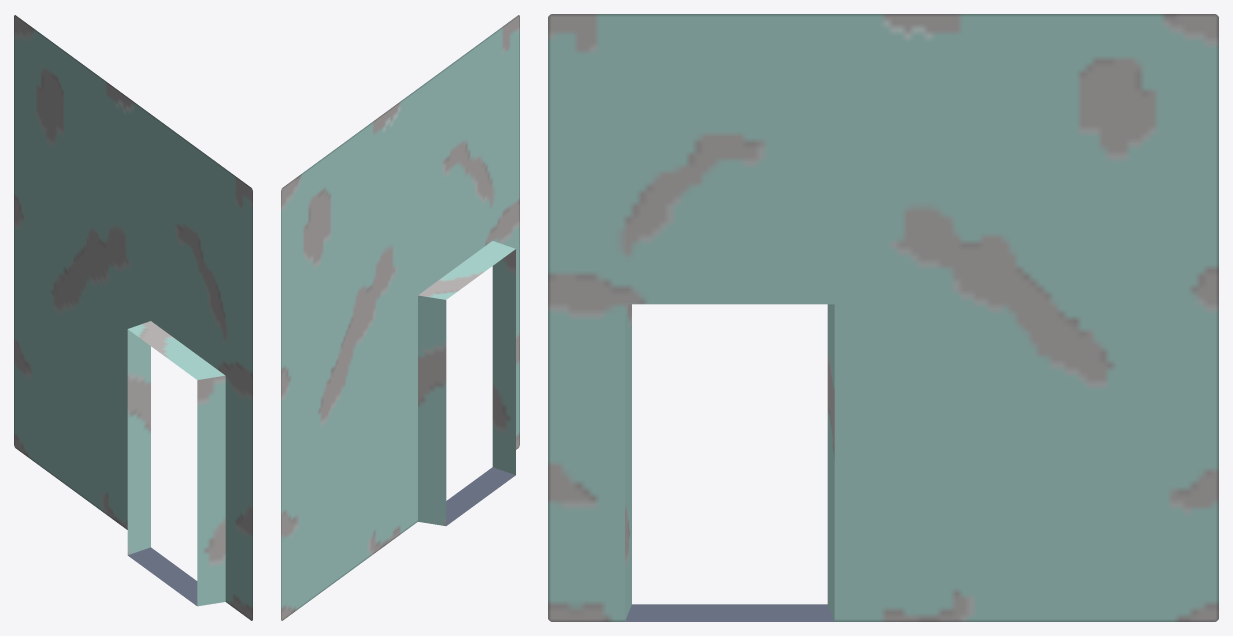
File: ParedPuertaAzul4.fbx
3 views of the same model, side by side, from view 1: azimuth 30°, elevation 25°; view 2: azimuth 150°, elevation 25°; view 3: azimuth 270°, elevation 25° (orthographic). The views are drawn at different scales.
Visible parts, largest first — view 1: Pared + puerta 3; view 2: Pared + puerta 3; view 3: Pared + puerta 3.
Boxes of the visible parts, box(x1,y1,x2,y2) form: Pared + puerta 3: box(14, 15, 252, 620); Pared + puerta 3: box(281, 15, 519, 620); Pared + puerta 3: box(548, 14, 1218, 621).
Size of the model in its own units: 18.75 by 300 by 300.
Materials: 1 (1 with a texture image).
